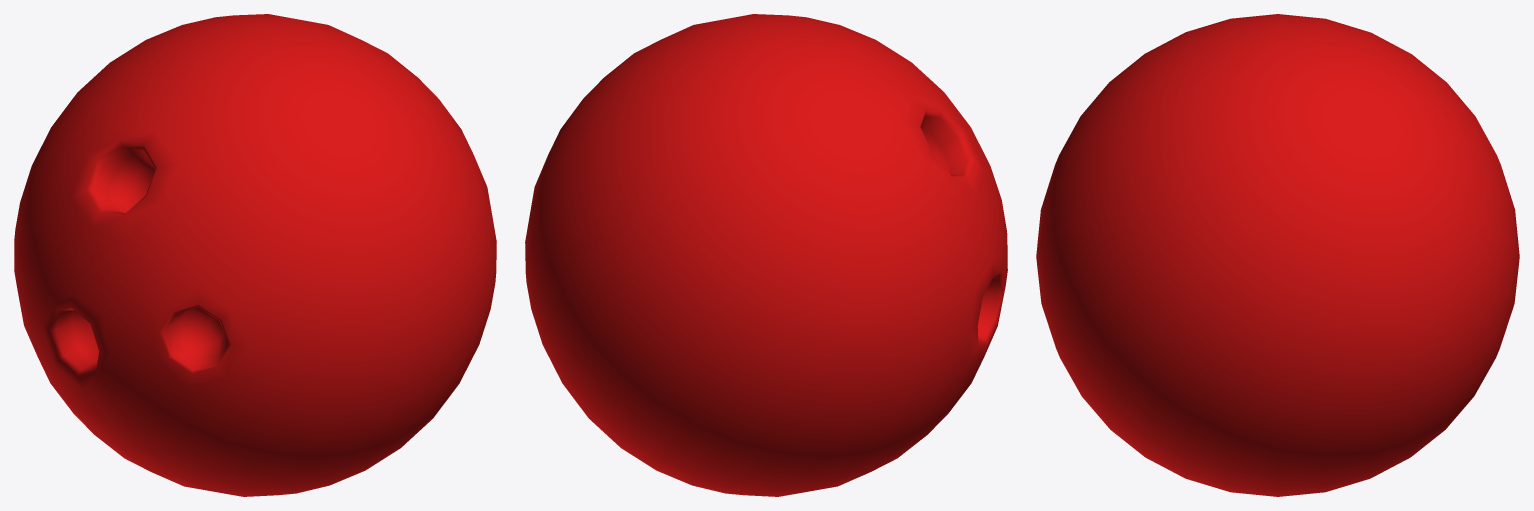
Rendered from bowlingBall25.obj.
3 renders of one model, left to right at view 1: azimuth 30°, elevation 25°; view 2: azimuth 150°, elevation 25°; view 3: azimuth 270°, elevation 25°, orthographic.
Visible parts, largest first — view 1: bowlingBall25; view 2: bowlingBall25; view 3: bowlingBall25.
Part boxes in pixels (box(x1,y1,x2,y2)): bowlingBall25: box(14, 14, 496, 496); bowlingBall25: box(525, 14, 1007, 496); bowlingBall25: box(1036, 14, 1519, 496).
Size of the model in its own units: 0.1725 by 0.1722 by 0.173.
